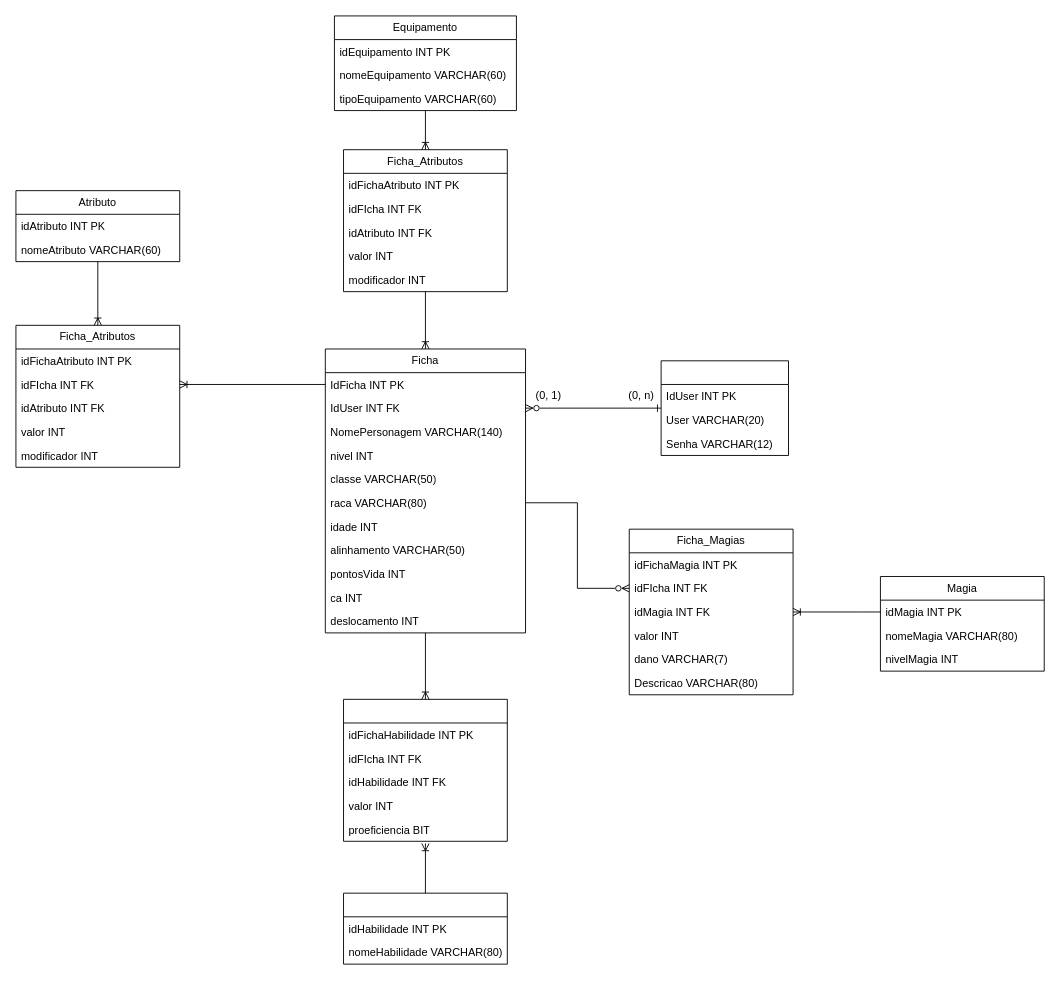
Image size: 1060x983. Some labels were removed from this diagram. Here are the shapes that lost their labels. From the top down, the box of each, then its label:
(660, 360, 789, 455): Usuario
(343, 698, 507, 841): Ficha_Habilidades
(343, 892, 507, 964): Hablidade
